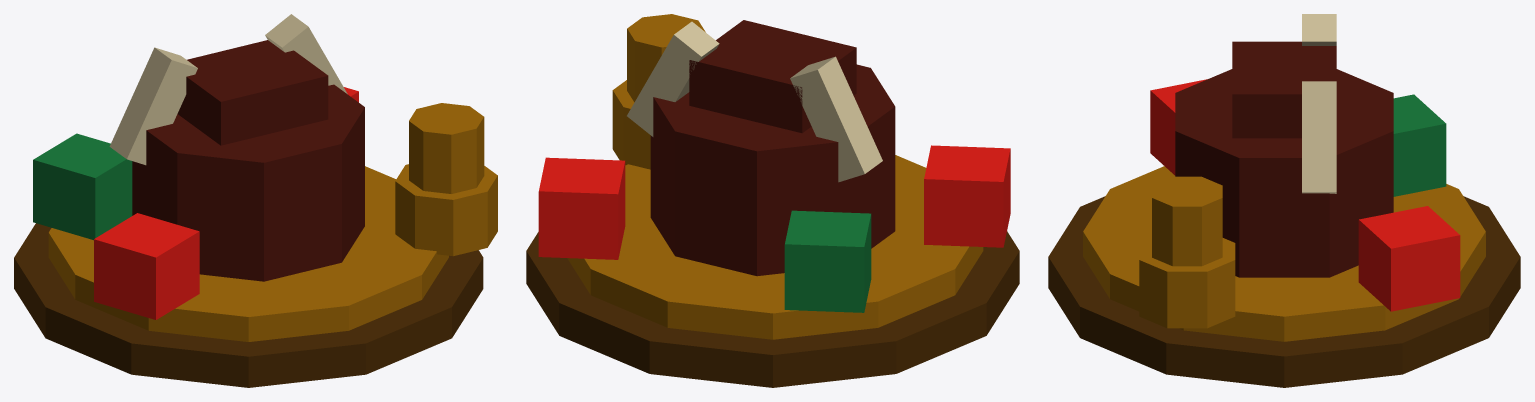
The model's file is BanqueteReal_low.fbx.
3 renders of one model, left to right at view 1: azimuth 30°, elevation 25°; view 2: azimuth 150°, elevation 25°; view 3: azimuth 270°, elevation 25°, orthographic. The views are drawn at different scales.
Parts seen in each view (by area): view 1: BanqueteReal_low; view 2: BanqueteReal_low; view 3: BanqueteReal_low.
Part boxes in pixels (<box>): BanqueteReal_low: <box>14,14,497,387</box>; BanqueteReal_low: <box>526,14,1019,387</box>; BanqueteReal_low: <box>1048,14,1520,387</box>.
Size of the model in its own units: 68 by 38.24 by 68.
